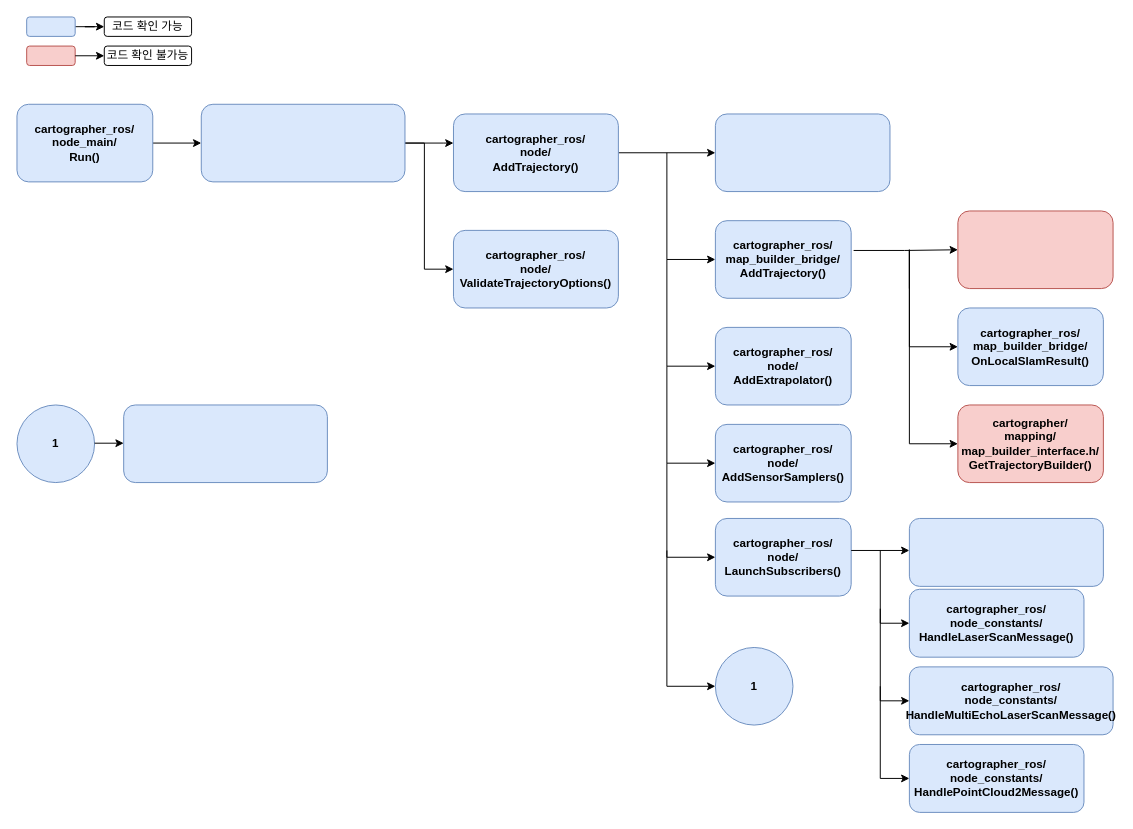
Some shapes in this 1133 by 829 pixel diagram are drawn without their labels. The shapes that lost their labels are listed below. From the top down, each one's centre as x and y in pixels, then its label:
At point 302,142: "cartographer_ros/ node/ StartTrajectoryWithDefaultTopics()".
At point 802,152: "cartographer_ros/ node/ ComputeExpectedSensorIds()".
At point 1035,249: "cartographer/ mapping/ map_builder_interface.h/ AddTrajectoryBuilder()".
At point 225,443: "cartographer_ros/ node / MaybeWarnAboutRopicMismatch()".
At point 1005,551: "cartographer_ros/ node_constants/ ComputeRepeatedRopicNames()".
